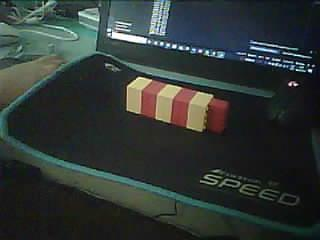lego: (126, 75, 230, 134)
